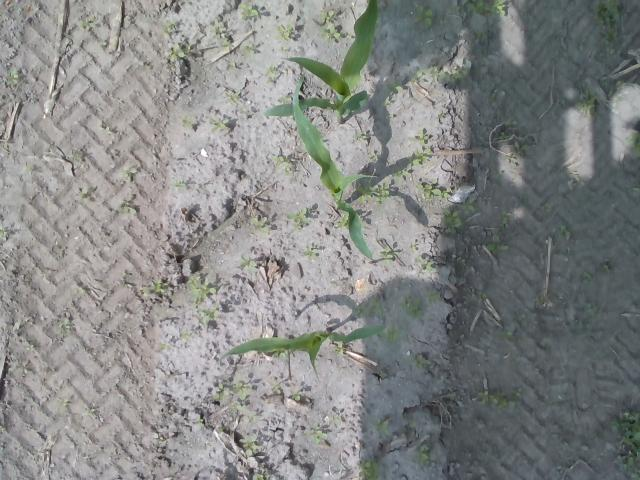Maize: (293, 77, 379, 264), (261, 0, 379, 117), (219, 323, 387, 382)
Weeds: (608, 407, 640, 480), (410, 63, 473, 88), (594, 0, 623, 46), (160, 20, 190, 60), (211, 382, 247, 412), (496, 129, 530, 154), (476, 390, 509, 415), (576, 87, 600, 120), (189, 278, 215, 306), (465, 0, 507, 17), (602, 77, 626, 106), (356, 183, 392, 202), (320, 9, 342, 39), (302, 422, 328, 446), (402, 295, 425, 322), (212, 18, 232, 49), (414, 181, 448, 199), (442, 206, 464, 232), (270, 154, 296, 176), (352, 299, 382, 317), (140, 278, 170, 296), (461, 286, 487, 306), (408, 148, 434, 166), (238, 256, 264, 274), (414, 255, 438, 274), (624, 131, 640, 159), (237, 1, 259, 20), (414, 4, 432, 26), (414, 445, 432, 467), (382, 322, 400, 343), (484, 239, 510, 253), (359, 460, 377, 480), (238, 435, 258, 453), (290, 208, 310, 226), (250, 217, 272, 233), (274, 24, 294, 40), (115, 202, 137, 216), (209, 117, 229, 132), (374, 416, 389, 434), (202, 308, 222, 321), (56, 316, 70, 334), (498, 329, 516, 343), (558, 224, 572, 241), (264, 66, 281, 80), (377, 246, 393, 260), (459, 198, 475, 212), (499, 208, 512, 225), (387, 79, 402, 93), (417, 125, 428, 144), (356, 130, 369, 146), (390, 167, 410, 177), (412, 355, 427, 368), (240, 44, 256, 56), (6, 69, 17, 86), (582, 302, 596, 314), (78, 19, 93, 30), (304, 248, 320, 258), (122, 168, 137, 178), (428, 291, 442, 301), (291, 392, 303, 402), (57, 398, 68, 408), (0, 226, 9, 238), (253, 473, 268, 480), (407, 241, 416, 252), (225, 94, 237, 102), (172, 181, 184, 188), (180, 331, 190, 338)
